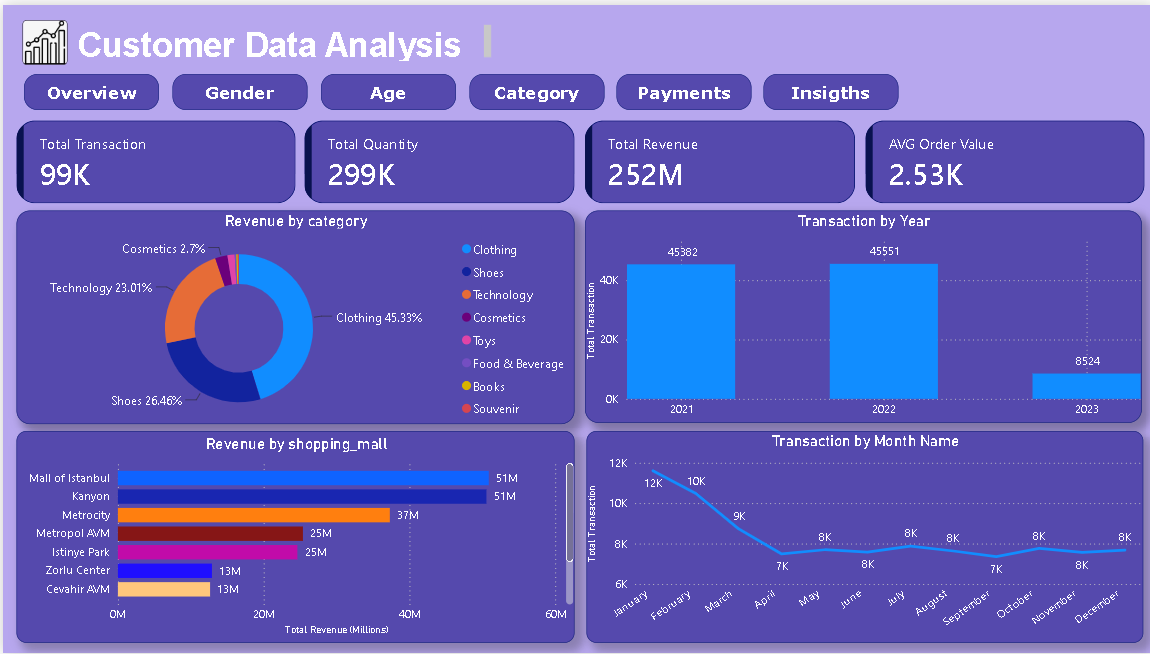

Layout of this report page (visuals, bound fields, positions):
{"tool":"powerbi","page":{"name":"Overview","canvas":[1280,720],"ordinal":0},"visuals":[{"type":"cardVisual","fields":{"Data":["project_customer_segmentation customer.Total Transaction"]},"box":[15,127.5,310,92.5],"z":0},{"type":"textbox","box":[79.1,16.4,469.1,50],"z":1000},{"type":"cardVisual","fields":{"Data":["project_customer_segmentation customer.Total Quantity"]},"box":[335,127.5,300,92.5],"z":2000},{"type":"cardVisual","fields":{"Data":["project_customer_segmentation customer.Total Revenue"]},"box":[646.2,127.5,300,92.5],"z":3000},{"type":"cardVisual","fields":{"Data":["project_customer_segmentation customer.AVG Order Value"]},"box":[957.5,127.5,310,92.5],"z":4000},{"type":"donutChart","title":"Revenue by category","fields":{"Y":["project_customer_segmentation customer.Total Revenue"],"Category":["project_customer_segmentation customer.category"]},"box":[15,227.5,620,237.5],"z":5000},{"type":"columnChart","title":"Transaction by Year","fields":{"Category":["project_customer_segmentation customer.Year"],"Y":["project_customer_segmentation customer.Total Transaction"]},"box":[646.2,227.5,618.8,236.2],"z":6000},{"type":"clusteredBarChart","title":"Revenue by shopping_mall","fields":{"Y":["project_customer_segmentation customer.Total Revenue"],"Category":["project_customer_segmentation customer.shopping_mall"]},"box":[15,473.3,620,235],"z":7000},{"type":"lineChart","title":"Transaction by Month Name","fields":{"Y":["project_customer_segmentation customer.Total Transaction"],"Category":["project_customer_segmentation customer.Month Name"]},"box":[647.5,472.5,618.8,235],"z":8000},{"type":"actionButton","box":[22.5,76.2,150,40],"z":9000},{"type":"actionButton","box":[187.5,76.2,150,40],"z":10000},{"type":"actionButton","box":[353.8,76.2,150,40],"z":11000},{"type":"actionButton","box":[518.8,76.2,150,40],"z":12000},{"type":"actionButton","box":[681.2,76.2,150,40],"z":13000},{"type":"actionButton","box":[845,76.2,150,40],"z":14000},{"type":"image","box":[22,16,50,50],"z":15000}]}

Visuals, with their boxes in screenshot pixels (x1, y1, x2, y2), scaled from the page's 1280x720 canvas onto the 1150x654 screenshot:
cardVisual - project_customer_segmentation customer.Total Transaction: region(13, 116, 292, 200)
textbox: region(71, 15, 493, 60)
cardVisual - project_customer_segmentation customer.Total Quantity: region(301, 116, 571, 200)
cardVisual - project_customer_segmentation customer.Total Revenue: region(581, 116, 850, 200)
cardVisual - project_customer_segmentation customer.AVG Order Value: region(860, 116, 1139, 200)
"Revenue by category" donutChart: region(13, 207, 571, 422)
"Transaction by Year" columnChart: region(581, 207, 1137, 421)
"Revenue by shopping_mall" clusteredBarChart: region(13, 430, 571, 643)
"Transaction by Month Name" lineChart: region(582, 429, 1138, 643)
actionButton: region(20, 69, 155, 106)
actionButton: region(168, 69, 303, 106)
actionButton: region(318, 69, 453, 106)
actionButton: region(466, 69, 601, 106)
actionButton: region(612, 69, 747, 106)
actionButton: region(759, 69, 894, 106)
image: region(20, 15, 65, 60)
